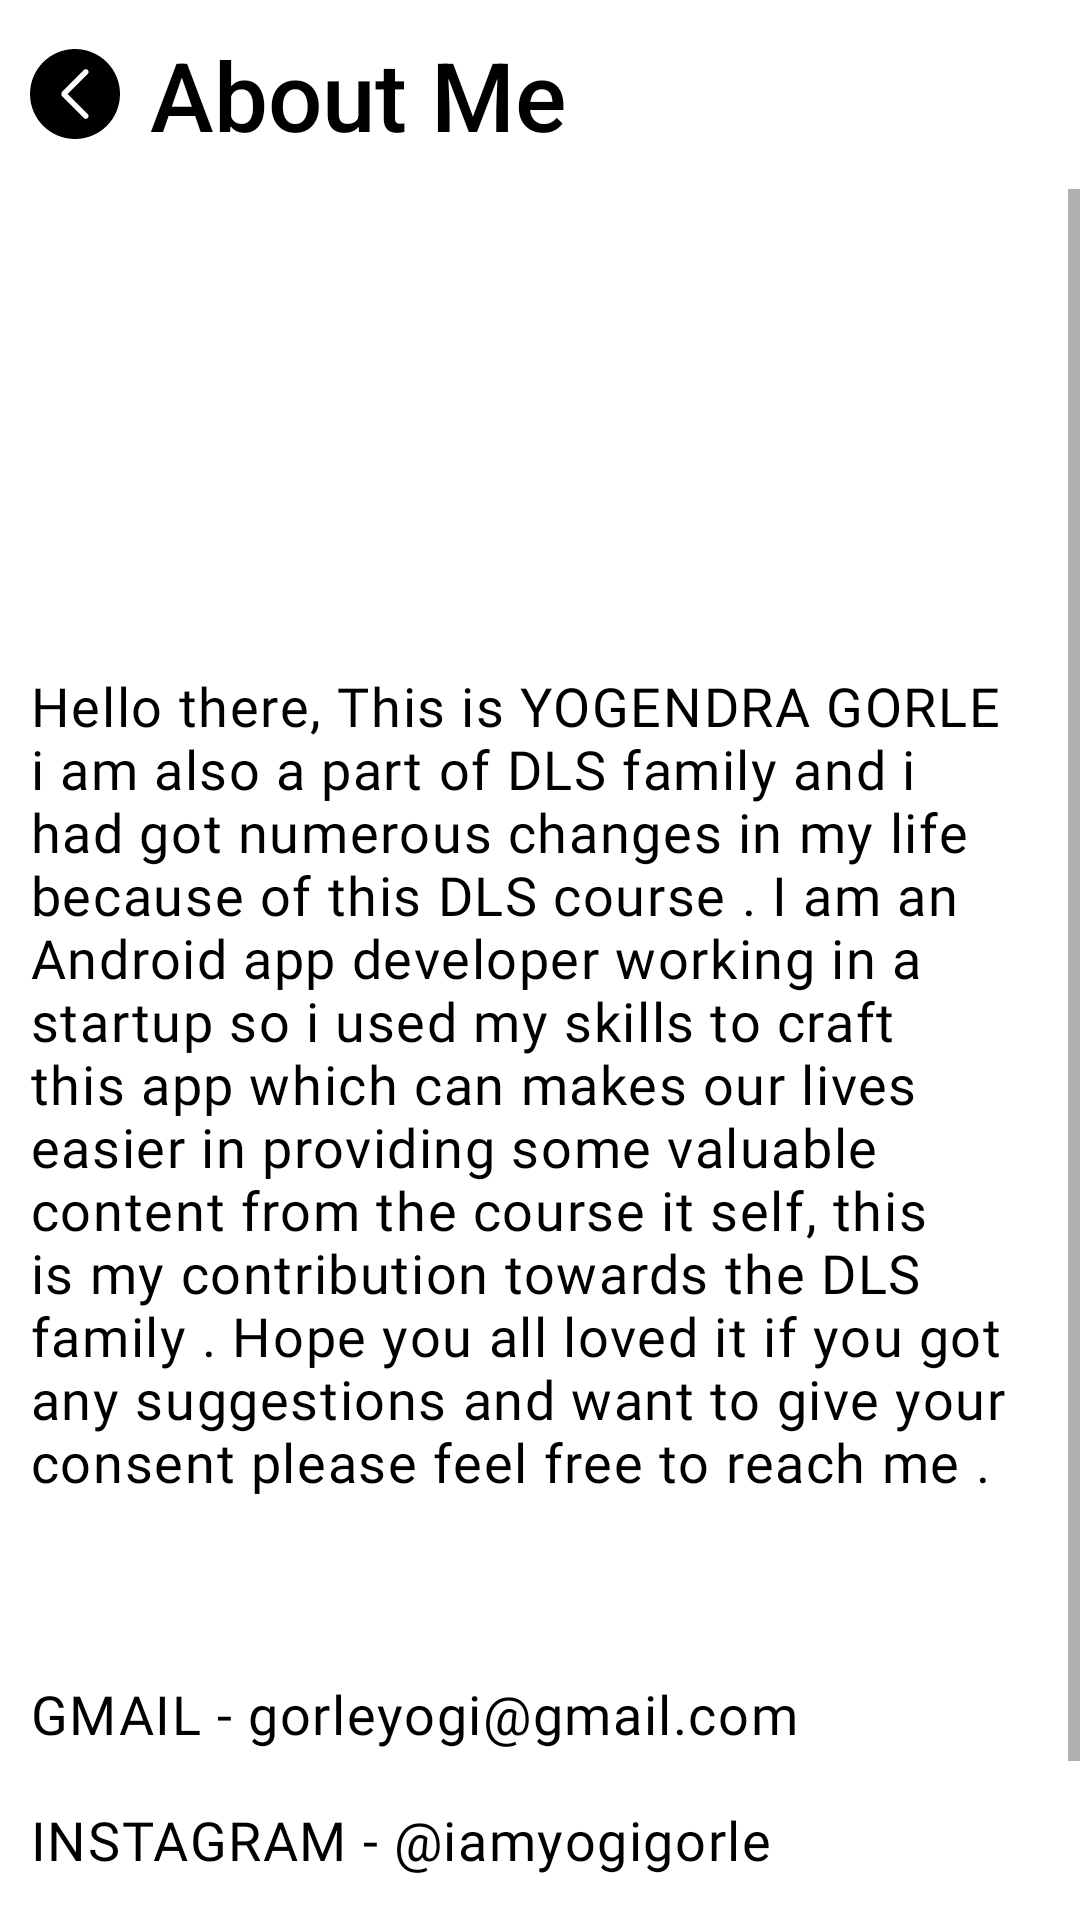

Named icons in this screenshot (1080*1920) and their bounding boxes, Rect(x1, y1, x2, y2):
back: Rect(30, 49, 120, 139)
